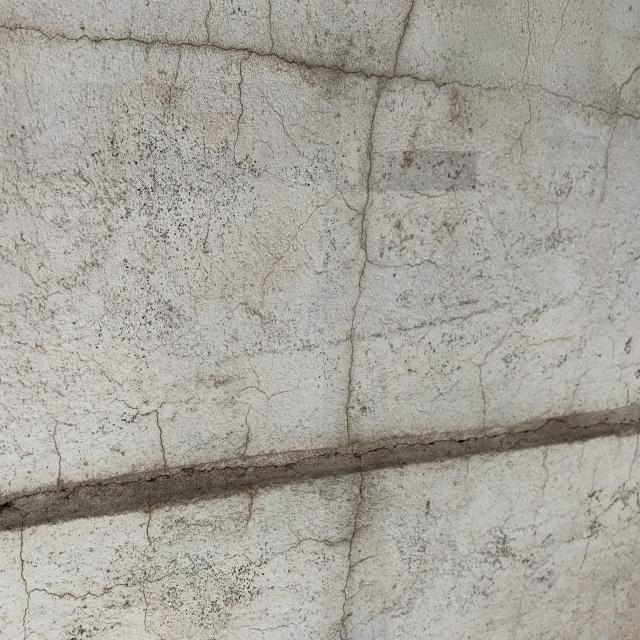horizontal crack: (0, 405, 630, 518), (3, 16, 590, 99)
multi-branched crack: (0, 0, 637, 640)
vertical crack: (329, 0, 426, 640)
